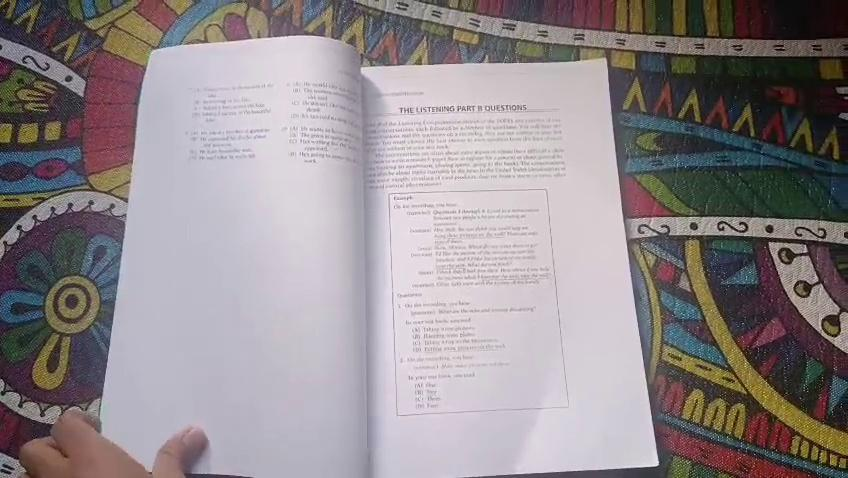Kertas: (341, 66, 608, 478), (148, 69, 402, 413)
